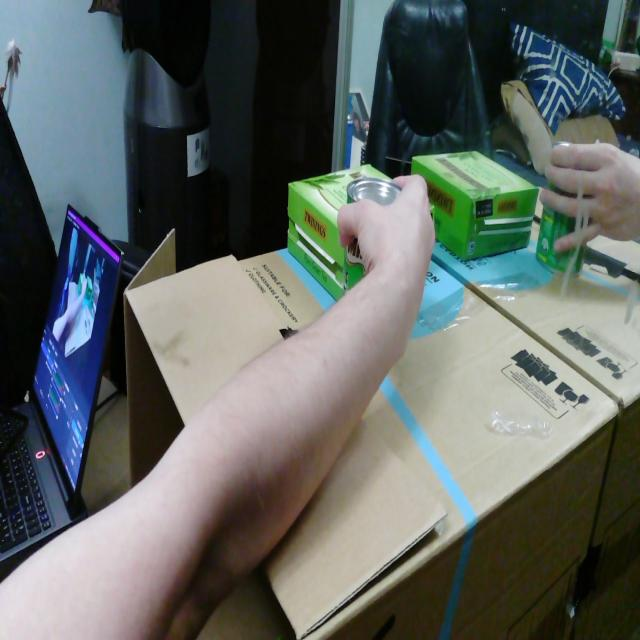nestle_milo_tin: (347, 177, 403, 205), (343, 238, 365, 296)
twinings_greentea_box: (288, 165, 391, 301)
